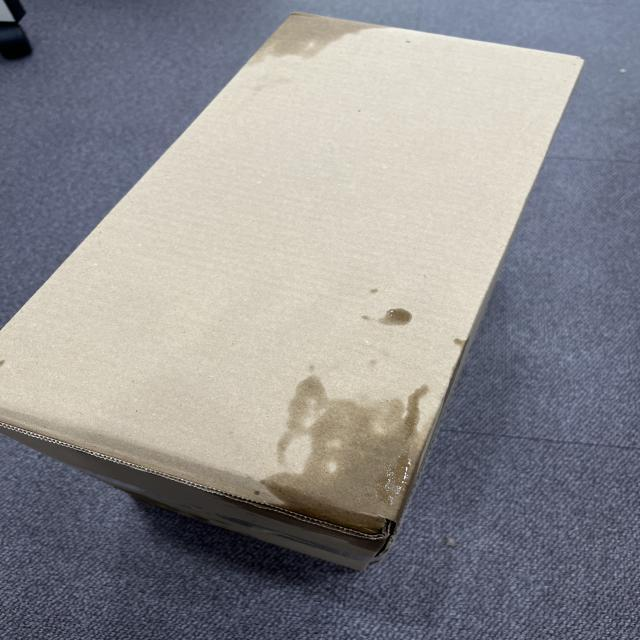wet: (257, 376, 431, 542), (270, 14, 384, 64)
